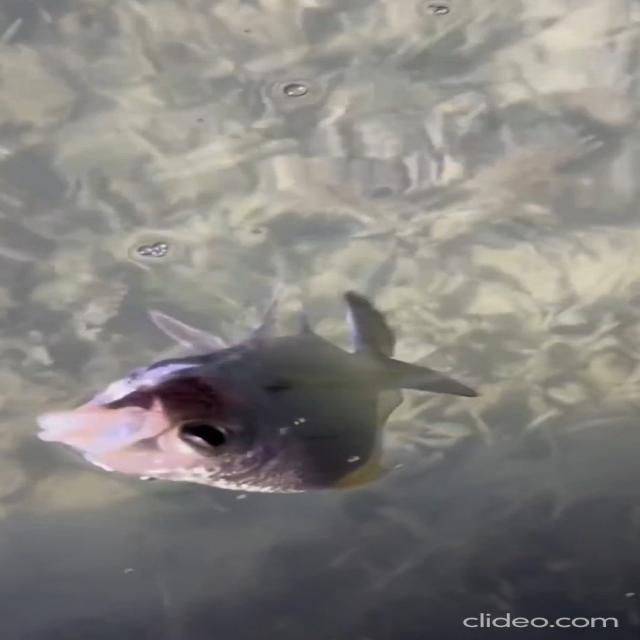fish: (15, 281, 581, 504)
